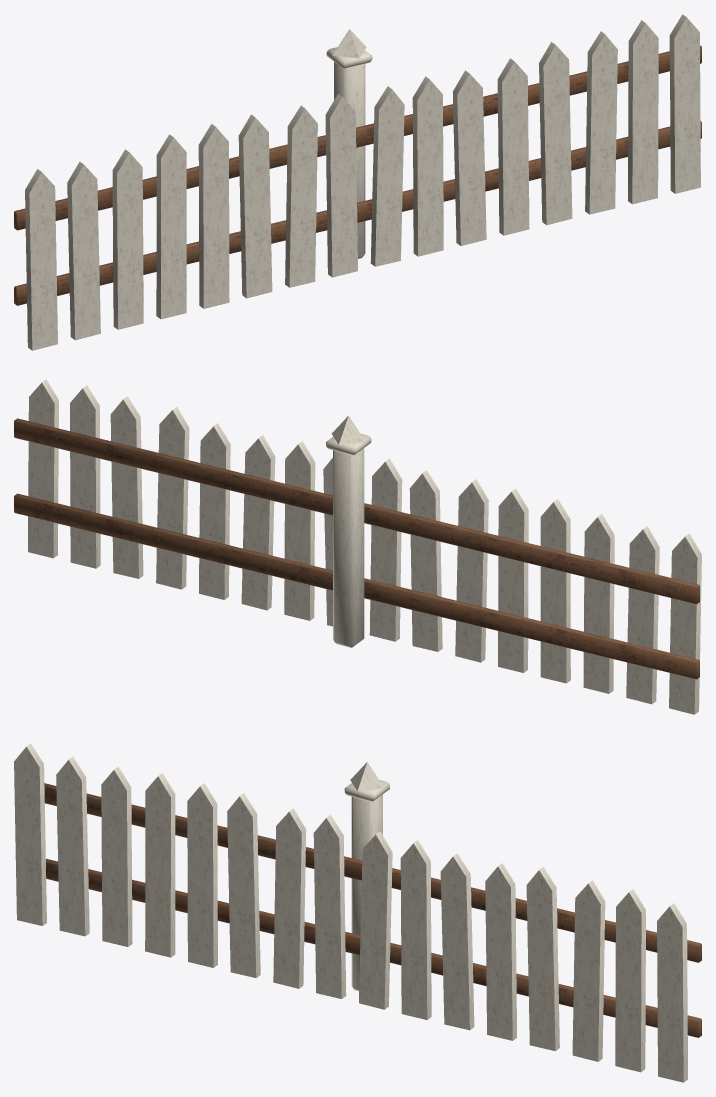
Rendered from picket_fence_straight.glb.
3 views of the same model, one above another, from view 1: azimuth 30°, elevation 25°; view 2: azimuth 150°, elevation 25°; view 3: azimuth 330°, elevation 25° (orthographic).
Parts seen in each view (by area): view 1: Fence; view 2: Fence; view 3: Fence.
Part boxes in pixels (<box>): Fence: <box>14,14,701,350</box>; Fence: <box>14,379,701,714</box>; Fence: <box>14,743,701,1082</box>.
Size of the model in its own units: 4 by 1.27 by 0.2725.
1 material, 1 textured.
